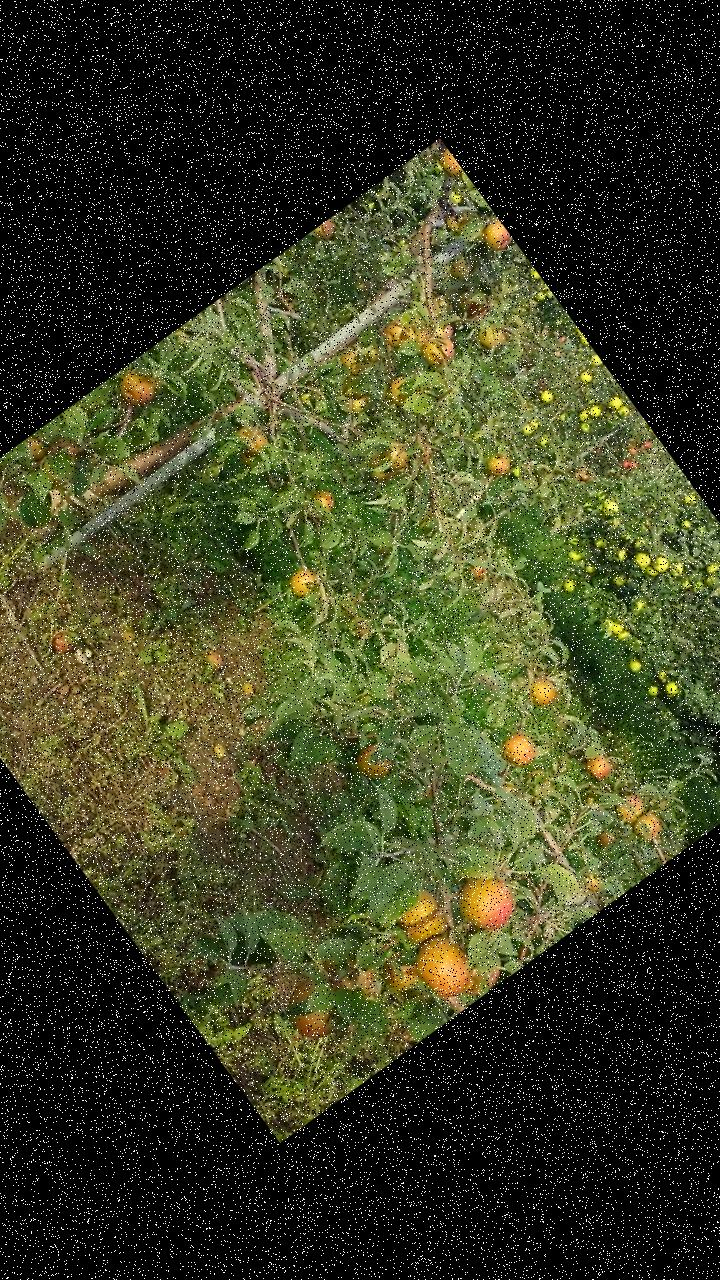Apple: (406, 926, 484, 1006), (448, 864, 523, 938), (318, 940, 384, 1007), (389, 882, 455, 948), (280, 976, 342, 1041), (372, 944, 428, 1001), (111, 357, 167, 412), (496, 724, 544, 772), (456, 954, 505, 998), (355, 737, 396, 780), (231, 417, 272, 459), (393, 314, 434, 354), (360, 448, 400, 488), (282, 561, 321, 600), (380, 434, 418, 474), (441, 251, 479, 288), (630, 806, 668, 843), (422, 329, 459, 366), (384, 370, 421, 407), (611, 790, 649, 826), (424, 313, 461, 349), (378, 315, 415, 351), (528, 670, 564, 706), (478, 216, 513, 252), (520, 761, 556, 796), (19, 428, 54, 463), (474, 318, 510, 352), (483, 446, 517, 481), (336, 346, 369, 380), (50, 429, 83, 463), (435, 146, 465, 180), (462, 293, 494, 324), (342, 387, 373, 418), (586, 749, 616, 781), (450, 284, 482, 313), (441, 207, 470, 236), (579, 866, 608, 895), (312, 483, 340, 513), (580, 788, 606, 816), (592, 824, 620, 850), (315, 216, 342, 242), (468, 559, 491, 582), (499, 776, 520, 799), (238, 446, 258, 466), (420, 777, 440, 797), (369, 286, 388, 302)
